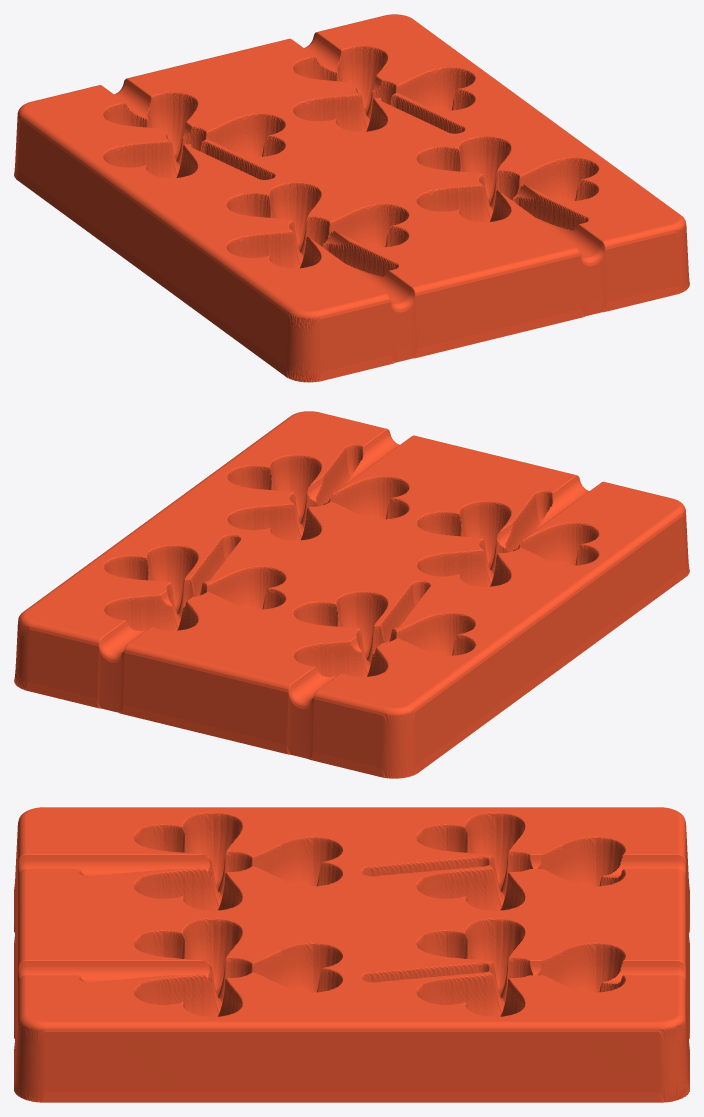
Rendered from mold.glb.
3 renders of one model, top to bottom at view 1: azimuth 30°, elevation 25°; view 2: azimuth 150°, elevation 25°; view 3: azimuth 270°, elevation 25°, orthographic. The views are drawn at different scales.
Visible parts, largest first — view 1: geometry_0; view 2: geometry_0; view 3: geometry_0.
Boxes of the visible parts, x1=… form: geometry_0: x1=14, y1=14, x2=689, y2=382; geometry_0: x1=14, y1=411, x2=689, y2=778; geometry_0: x1=14, y1=807, x2=689, y2=1102.
Bounding box in the file's own units: 0.1542 × 0.0245 × 0.1968.
